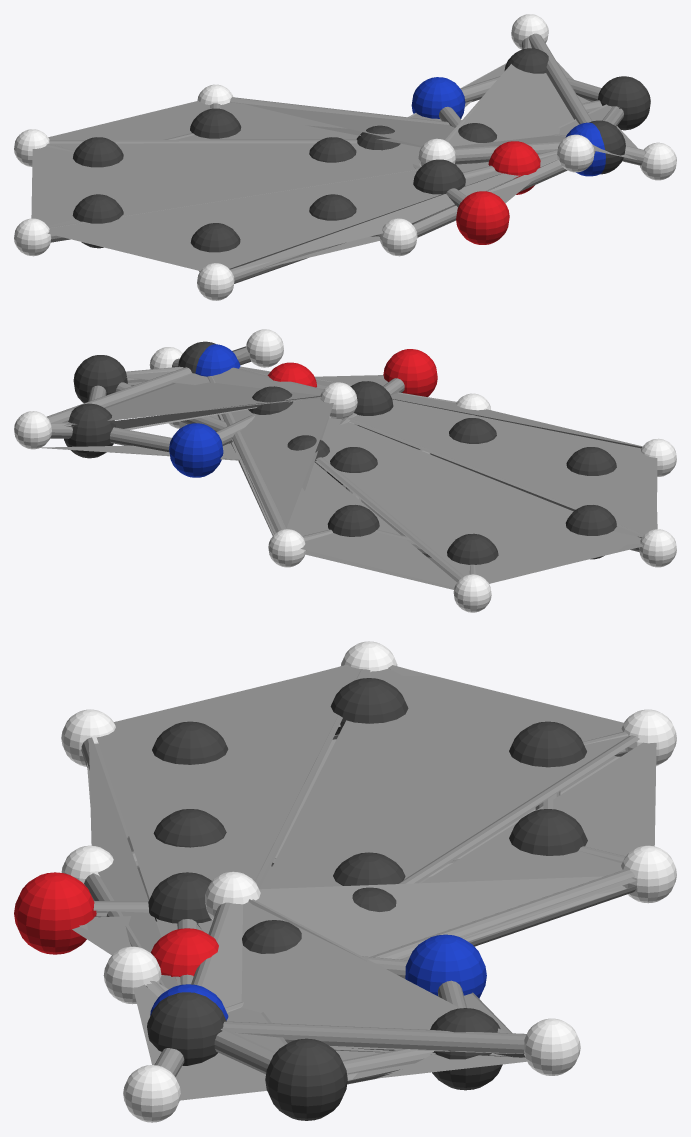
The model's file is etomidate.obj.
3 renders of one model, top to bottom at view 1: azimuth 30°, elevation 25°; view 2: azimuth 150°, elevation 25°; view 3: azimuth 270°, elevation 25°, orthographic. The views are drawn at different scales.
Bounding box in the file's own units: 1.3 × 0.14 × 0.8028.
